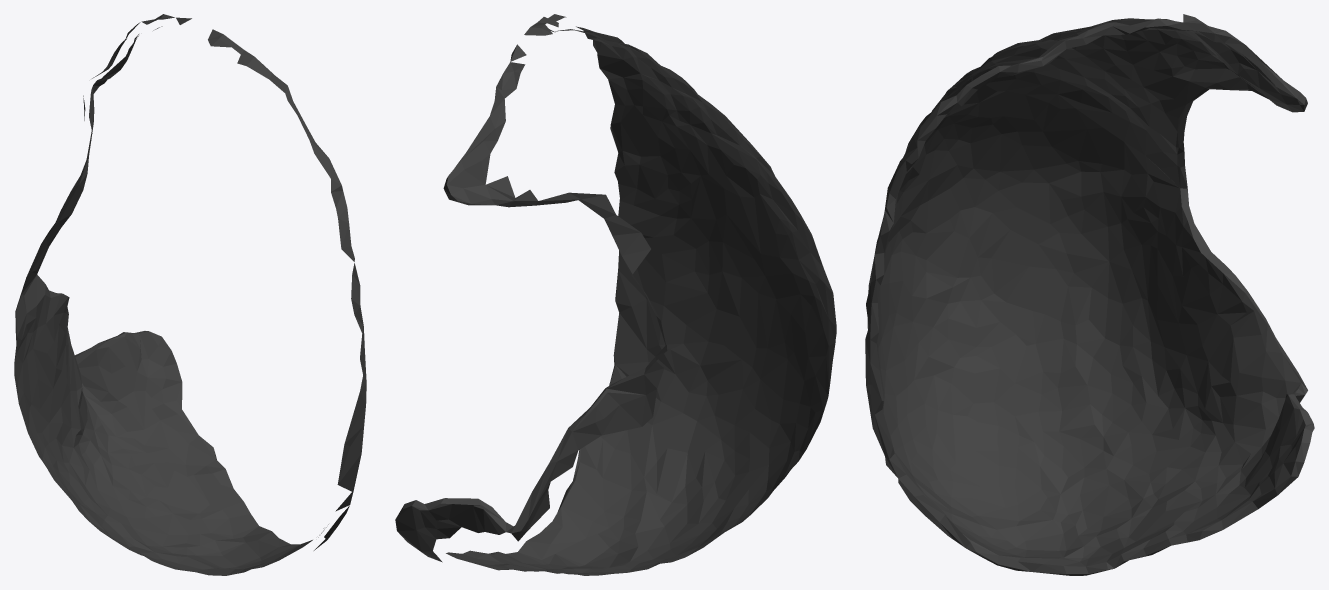
Rendered from reticulum.glb.
The picture shows the model from 3 angles, left to right: view 1: azimuth 30°, elevation 25°; view 2: azimuth 150°, elevation 25°; view 3: azimuth 270°, elevation 25°; orthographic projection. The views are drawn at different scales.
Parts seen in each view (by area): view 1: reticulum; view 2: reticulum; view 3: reticulum.
Part boxes in pixels (x1=…): reticulum: x1=14, y1=14, x2=366, y2=575; reticulum: x1=395, y1=14, x2=836, y2=575; reticulum: x1=865, y1=14, x2=1314, y2=575.
Bounding box in the file's own units: 0.6567 × 1.22 × 0.9129.
Materials: 1 (1 with a texture image).
